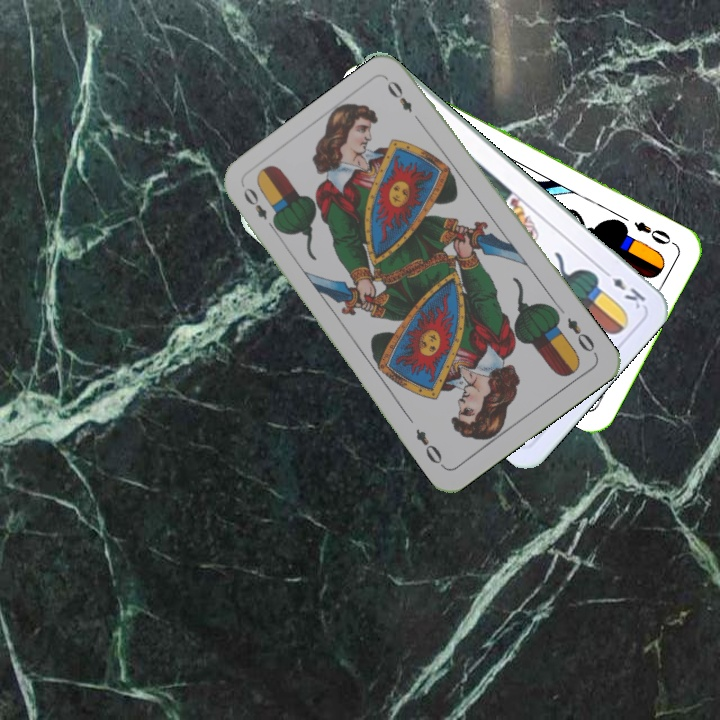EK: (597, 264, 648, 312)
EO: (239, 183, 281, 234), (563, 313, 600, 358), (629, 217, 678, 248)
